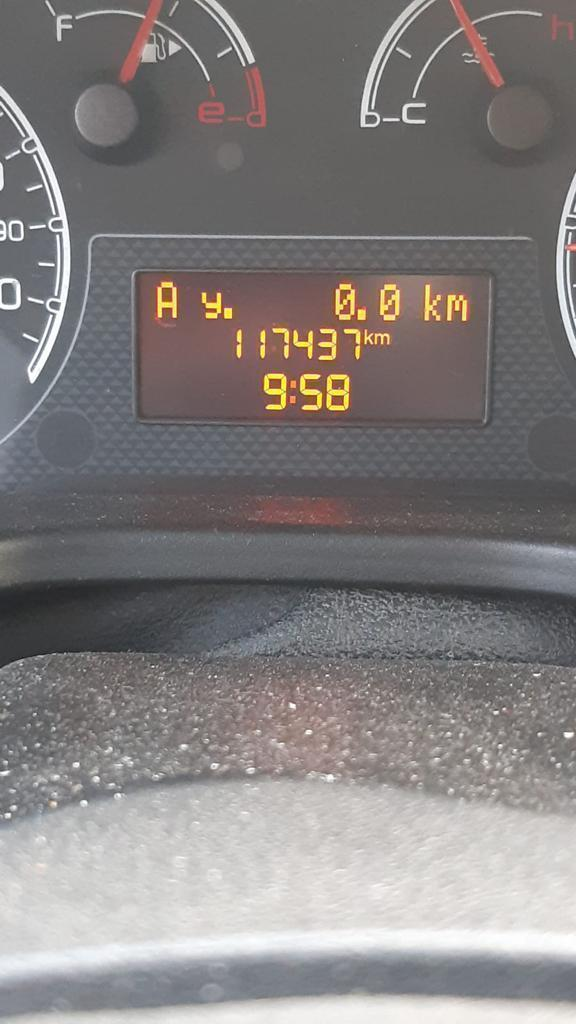,: (356, 307, 368, 322), (223, 306, 233, 321)
0: (376, 281, 401, 323), (332, 281, 356, 321)
1: (232, 326, 245, 360), (254, 327, 267, 360)
3: (315, 327, 338, 361)
4: (291, 327, 314, 360)
5: (298, 372, 323, 411)
7: (268, 325, 290, 361), (341, 326, 362, 361)
8: (325, 372, 350, 412)
9: (261, 372, 287, 411)
X: (154, 279, 179, 320), (421, 280, 443, 322), (198, 288, 222, 320), (445, 292, 469, 322), (287, 379, 297, 404), (374, 332, 391, 346), (363, 326, 374, 345)
odometer: (128, 266, 495, 428)
